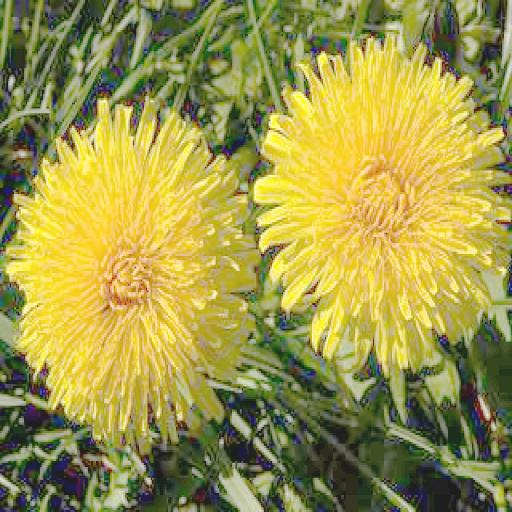dandelion: (5, 98, 254, 442), (262, 49, 512, 365)
